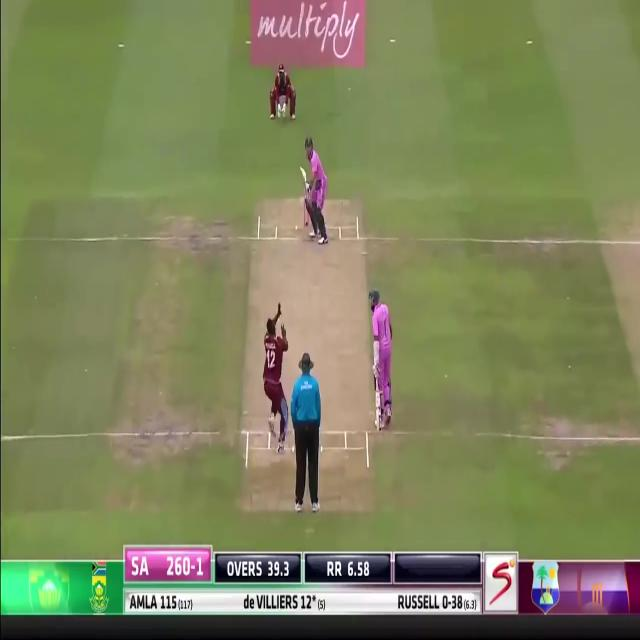Ball: (370, 286, 395, 432), (301, 136, 330, 244)
Fielder: (262, 303, 290, 449), (269, 66, 296, 120)
Umpire: (290, 352, 322, 514)
